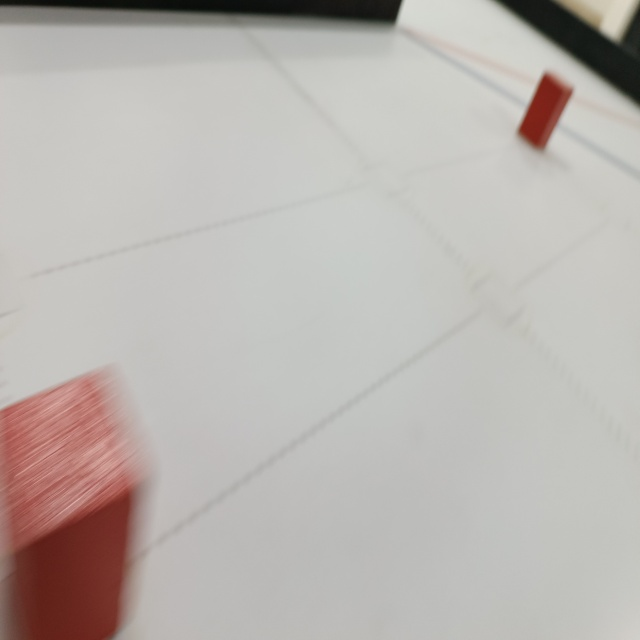blue line: (401, 36, 639, 188)
orange line: (401, 30, 640, 121)
red rectangular prism: (0, 369, 158, 640), (510, 64, 576, 154)
